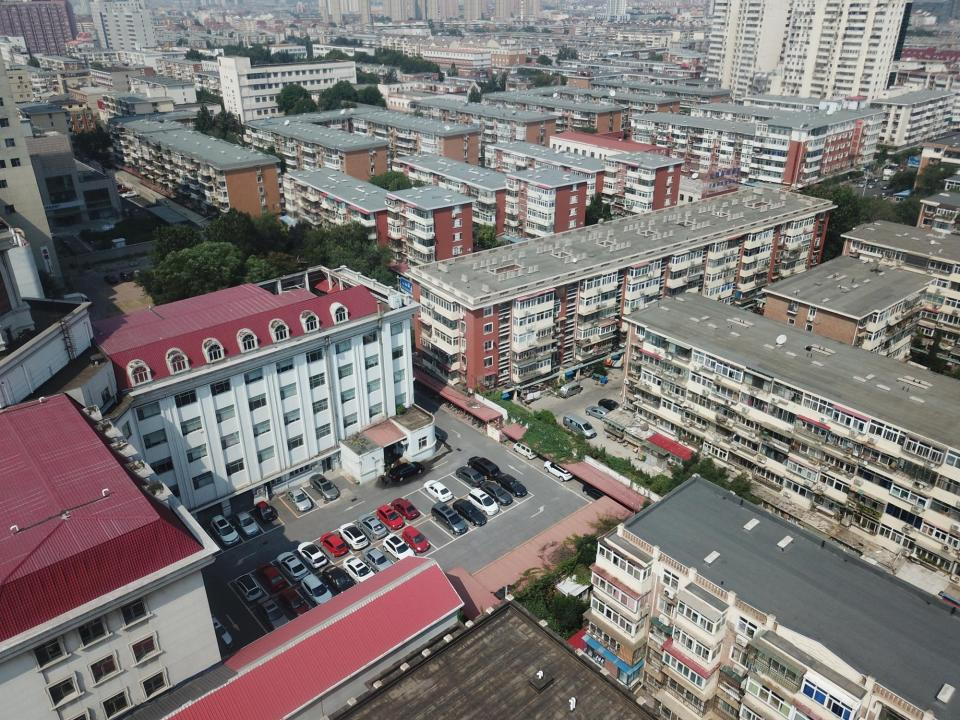car: (430, 502, 468, 535), (257, 596, 290, 630), (322, 564, 355, 594), (452, 498, 486, 526), (208, 612, 234, 648), (344, 556, 376, 585), (275, 552, 308, 579), (209, 514, 239, 543), (467, 488, 499, 514), (304, 575, 332, 604), (255, 562, 285, 589), (233, 575, 264, 601), (296, 542, 328, 566), (338, 522, 366, 549), (309, 474, 339, 499), (389, 460, 423, 482), (362, 547, 394, 570), (280, 589, 308, 615), (467, 457, 500, 479), (317, 532, 347, 556), (384, 537, 414, 561), (480, 481, 511, 504), (403, 526, 428, 554), (497, 474, 526, 497), (359, 515, 388, 537), (424, 480, 454, 501), (285, 488, 311, 511), (233, 511, 259, 534), (455, 466, 483, 486), (391, 498, 419, 518), (376, 505, 402, 526), (584, 484, 606, 503), (255, 502, 274, 522), (599, 397, 621, 411), (586, 406, 608, 417)
van: (562, 413, 595, 439), (544, 460, 573, 482), (511, 442, 537, 459), (559, 382, 581, 397)
